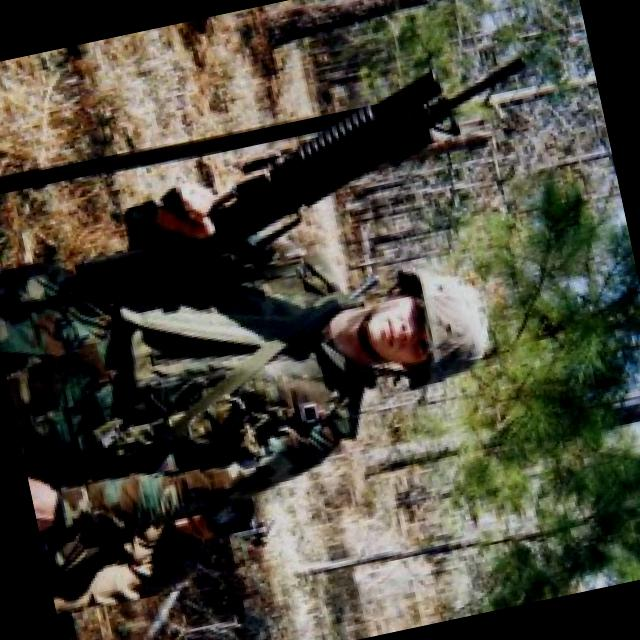long weapon: (83, 34, 562, 300)
